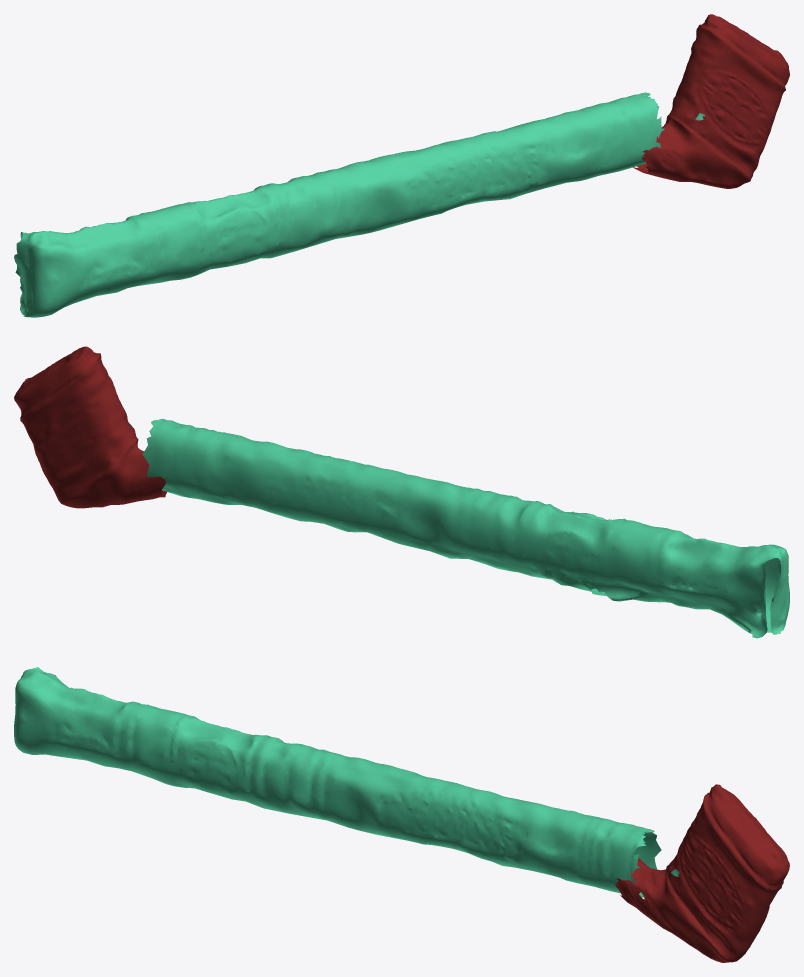
Rendered from object_deformed_3.obj.
3 renders of one model, top to bottom at view 1: azimuth 30°, elevation 25°; view 2: azimuth 150°, elevation 25°; view 3: azimuth 330°, elevation 25°, orthographic.
Bounding box in the file's own units: 0.5023 × 0.1058 × 0.0409.
